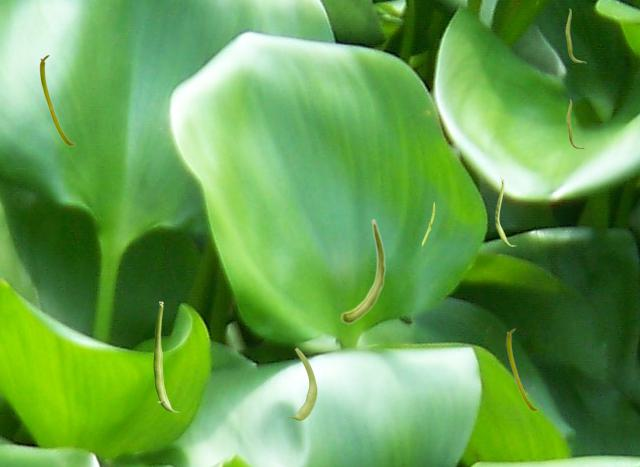french_bean: (340, 218, 385, 323), (39, 54, 74, 145), (153, 301, 178, 411), (506, 328, 537, 410), (283, 347, 316, 419), (495, 177, 515, 245), (565, 8, 585, 62), (566, 99, 584, 148), (421, 201, 434, 250)
